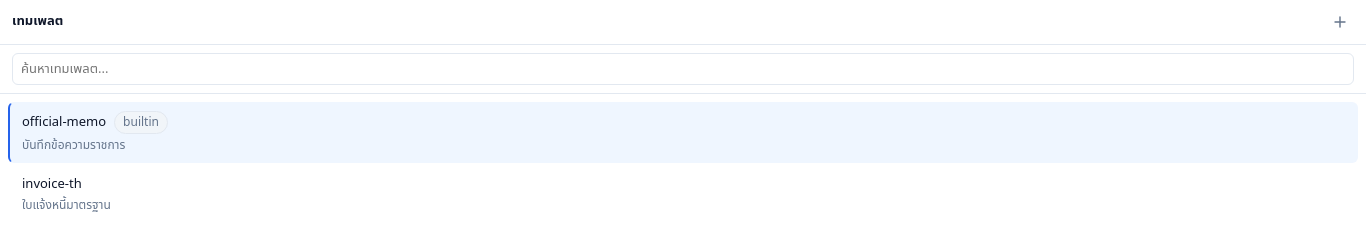
Scenario: TemplatesView › TemplatesView filters by text
This screenshot has width=1366, height=229.
Expected: the text "official-memo" is shown, [22,112,106,132]
Expected: the text "invoice-th" is shown, [22,174,82,194]
Type "invoice" into the search field at point(683, 69), box [12,53,1354,85]
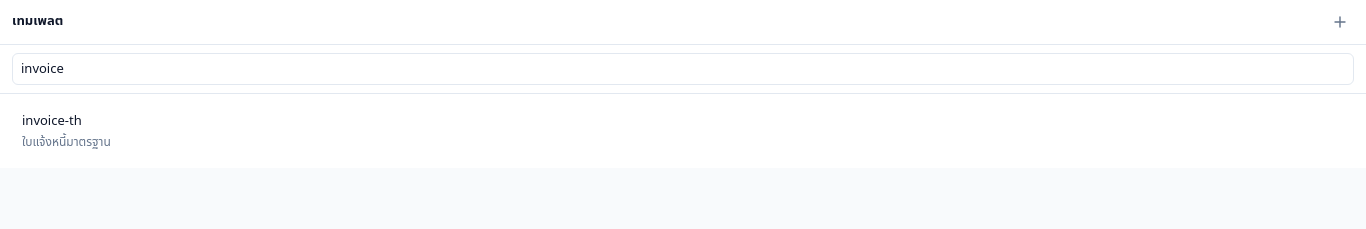
Expected: the text "invoice-th" is shown, [22,111,82,131]
Expected: the button "official-memo" is gone
